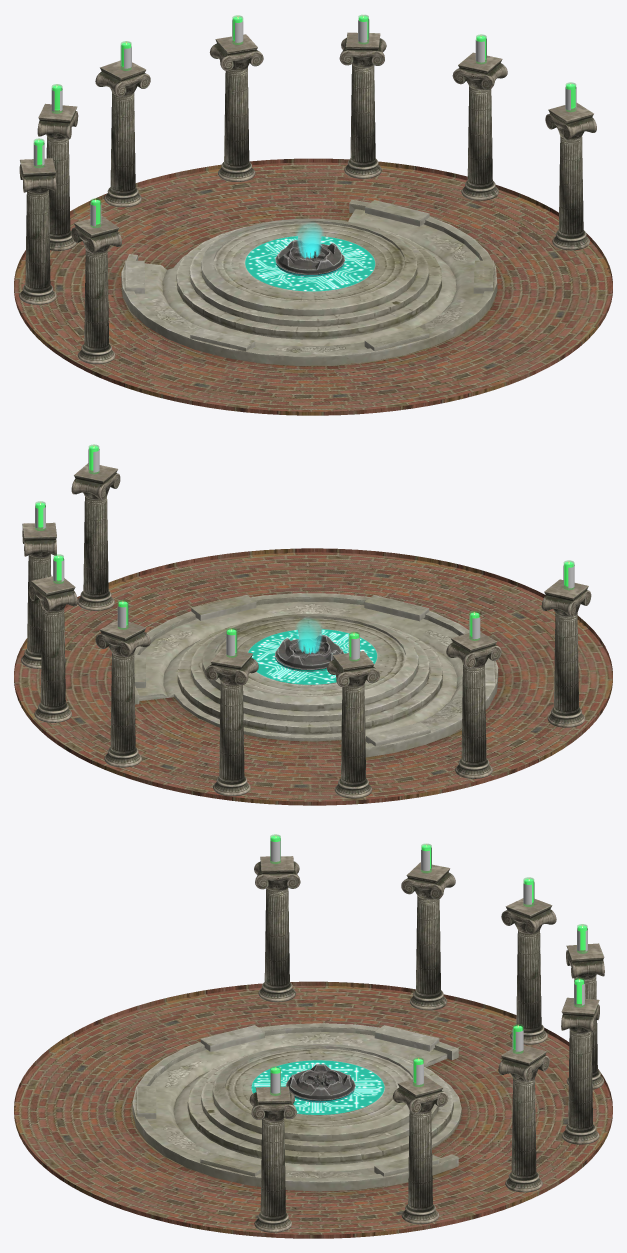
The model's file is altar8.glb.
3 views of the same model, one above another, from view 1: azimuth 30°, elevation 25°; view 2: azimuth 150°, elevation 25°; view 3: azimuth 270°, elevation 25° (orthographic).
Parts seen in each view (by area): view 1: Floor, Floor2.002, Ionic_Column__0.005, Ionic_Column__0.006, Ionic_Column__0.004, Ionic_Column, Ionic_Column__0.007, Ionic_Column__0.001, Ionic_Column__0.002, goldCircuit, Ionic_Column__0.003, Object_2.001 (+1 smaller); view 2: Floor, Floor2.002, Ionic_Column__0.004, Ionic_Column__0.005, Ionic_Column__0.003, Ionic_Column__0.002, Ionic_Column, Ionic_Column__0.007, Ionic_Column__0.001, Ionic_Column__0.006, goldCircuit, Object_2.001 (+1 smaller); view 3: Floor, Floor2.002, Ionic_Column__0.001, Ionic_Column__0.007, Ionic_Column__0.002, Ionic_Column__0.006, Ionic_Column, Ionic_Column__0.003, Ionic_Column__0.005, goldCircuit, Object_2.001, Ionic_Column__0.004.
Boxes of the visible parts, box(x1,y1,x2,y2) form: Floor: box(14, 158, 612, 415); Floor2.002: box(121, 200, 497, 365); Ionic_Column__0.005: box(209, 34, 263, 181); Ionic_Column__0.006: box(452, 52, 507, 200); Ionic_Column__0.004: box(95, 60, 150, 207); Ionic_Column: box(339, 32, 386, 178); Ionic_Column__0.007: box(545, 103, 596, 250); Ionic_Column__0.001: box(71, 216, 121, 364); Ionic_Column__0.002: box(19, 158, 56, 304); goldCircuit: box(245, 236, 375, 291); Ionic_Column__0.003: box(37, 103, 78, 250); Object_2.001: box(275, 239, 344, 276); Floor: box(14, 548, 612, 805); Floor2.002: box(134, 593, 498, 757); Ionic_Column__0.004: box(205, 648, 258, 796); Ionic_Column__0.005: box(95, 620, 150, 767); Ionic_Column__0.003: box(327, 651, 379, 798); Ionic_Column__0.002: box(446, 632, 501, 778); Ionic_Column: box(28, 576, 77, 722); Ionic_Column__0.007: box(71, 463, 120, 610); Ionic_Column__0.001: box(541, 579, 591, 727); Ionic_Column__0.006: box(21, 522, 56, 668); goldCircuit: box(248, 629, 377, 684); Object_2.001: box(274, 634, 344, 671); Floor: box(14, 981, 612, 1238); Floor2.002: box(132, 1023, 461, 1191); Ionic_Column__0.001: box(254, 856, 300, 1002); Ionic_Column__0.007: box(249, 1086, 296, 1232); Ionic_Column__0.002: box(401, 862, 455, 1010); Ionic_Column__0.006: box(392, 1076, 448, 1224); Ionic_Column: box(498, 1045, 549, 1192); Ionic_Column__0.003: box(501, 898, 556, 1044); Ionic_Column__0.005: box(561, 997, 599, 1144); goldCircuit: box(251, 1060, 384, 1114); Object_2.001: box(285, 1064, 355, 1102); Ionic_Column__0.004: box(566, 943, 604, 1089).
Size of the model in its own units: 60 by 19.23 by 60.
11 materials, 7 textured.
